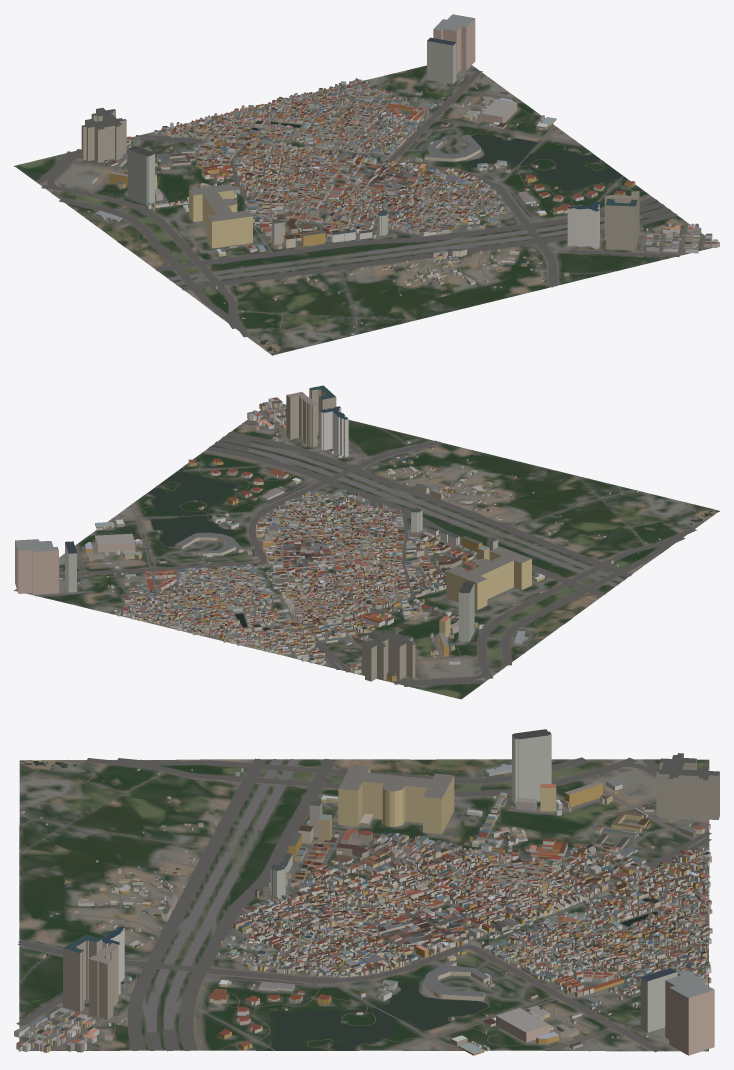
3 renders of one model, top to bottom at view 1: azimuth 30°, elevation 25°; view 2: azimuth 150°, elevation 25°; view 3: azimuth 270°, elevation 25°, orthographic. The views are drawn at different scales.
Parts seen in each view (by area): view 1: ground, buildings, roads, water; view 2: ground, buildings, roads, water; view 3: buildings, ground, roads, water.
Part boxes in pixels (x1,y1,x2,y2): ground: (14, 65, 719, 355); buildings: (81, 14, 719, 334); roads: (34, 66, 711, 347); water: (118, 122, 628, 354); ground: (14, 404, 719, 699); buildings: (15, 385, 660, 681); roads: (35, 405, 701, 686); water: (147, 437, 718, 630); buildings: (14, 729, 719, 1055); ground: (19, 759, 709, 1051); roads: (16, 757, 711, 1052); water: (20, 759, 657, 1050).
Size of the model in its own units: 1433 by 150 by 1435.
